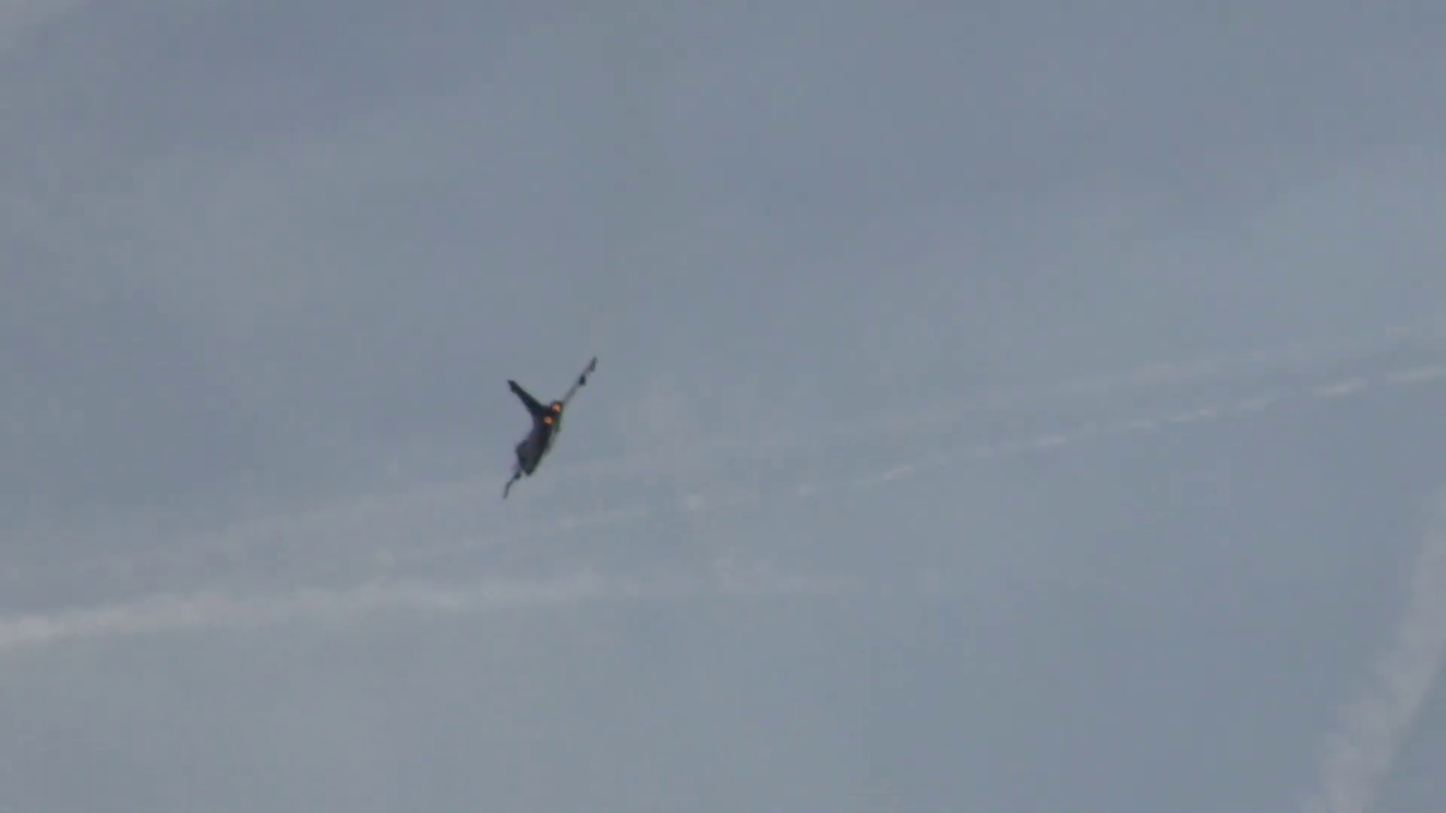Rafale: (496, 357, 596, 500)
